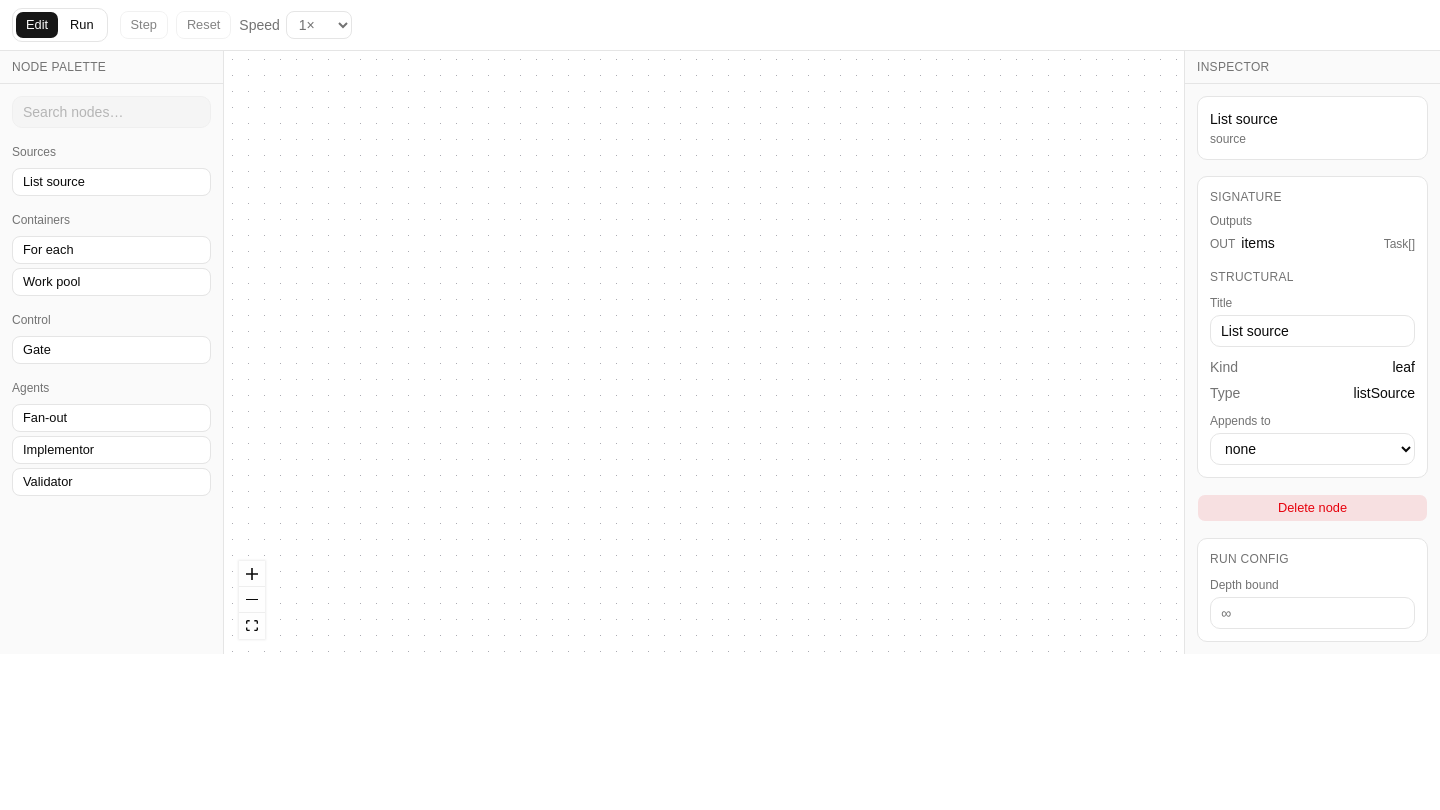
select + delete inspector wiring › deletes the selected node from the inspector button
Click the button with test id "inspector-delete". click: (1312, 508)
box: x1=1197 y1=494 x2=1428 y2=522
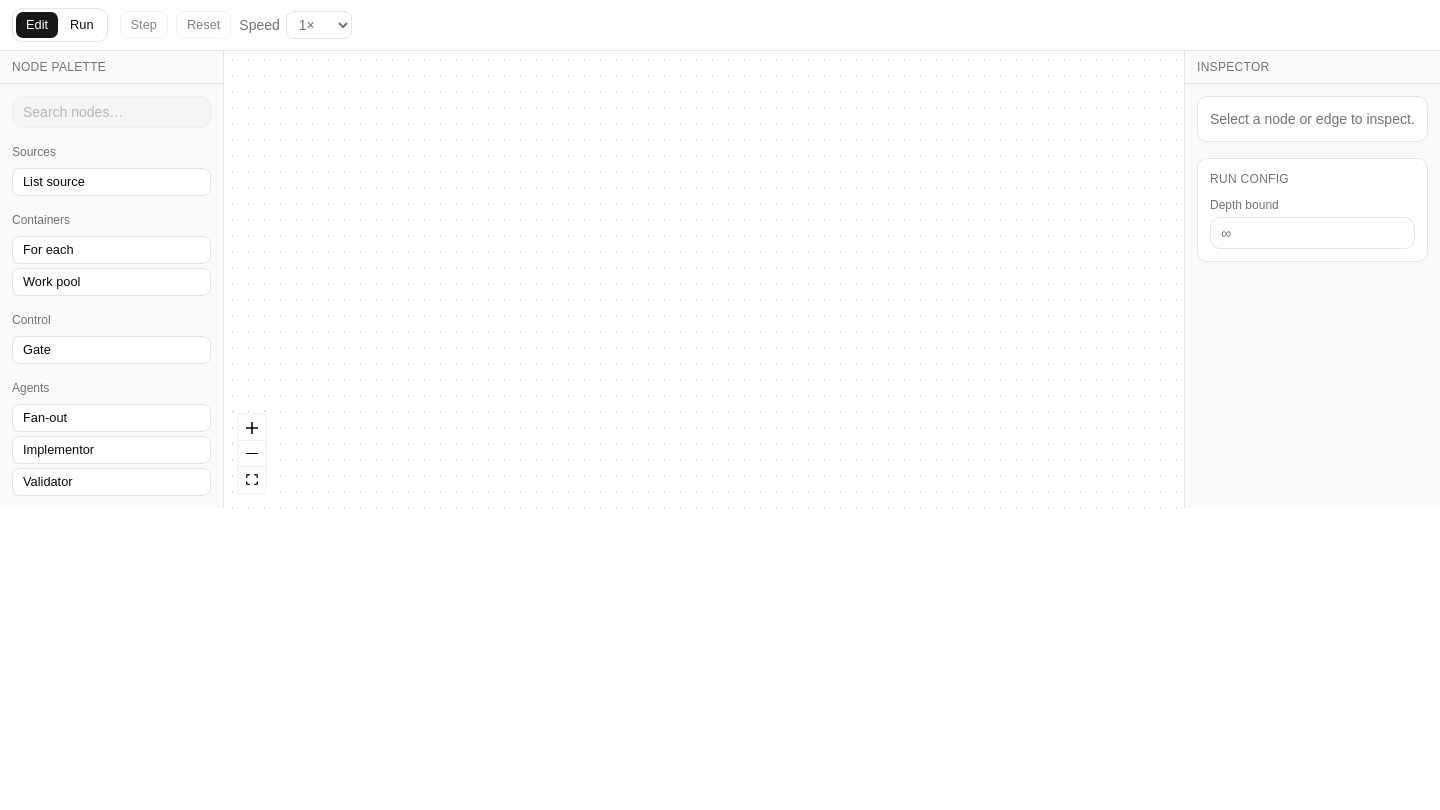
expect the text "Select a node or edge to inspect." is shown: met, box x1=1210 y1=109 x2=1415 y2=129
